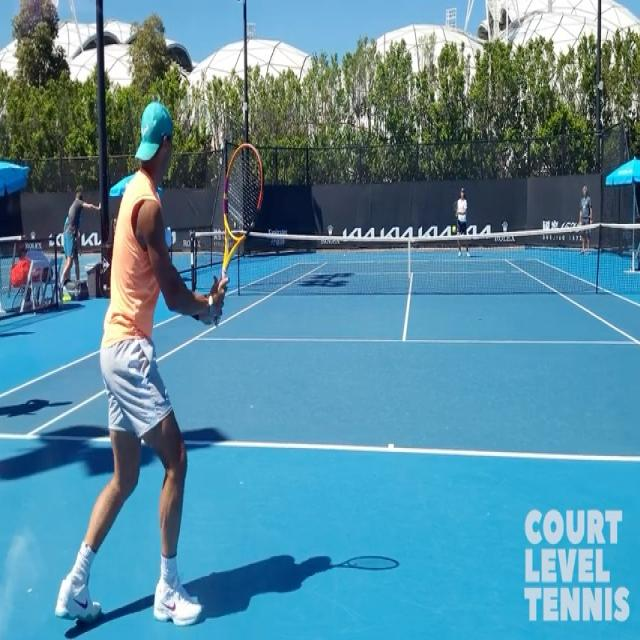backhand-ready: (54, 77, 268, 636)
